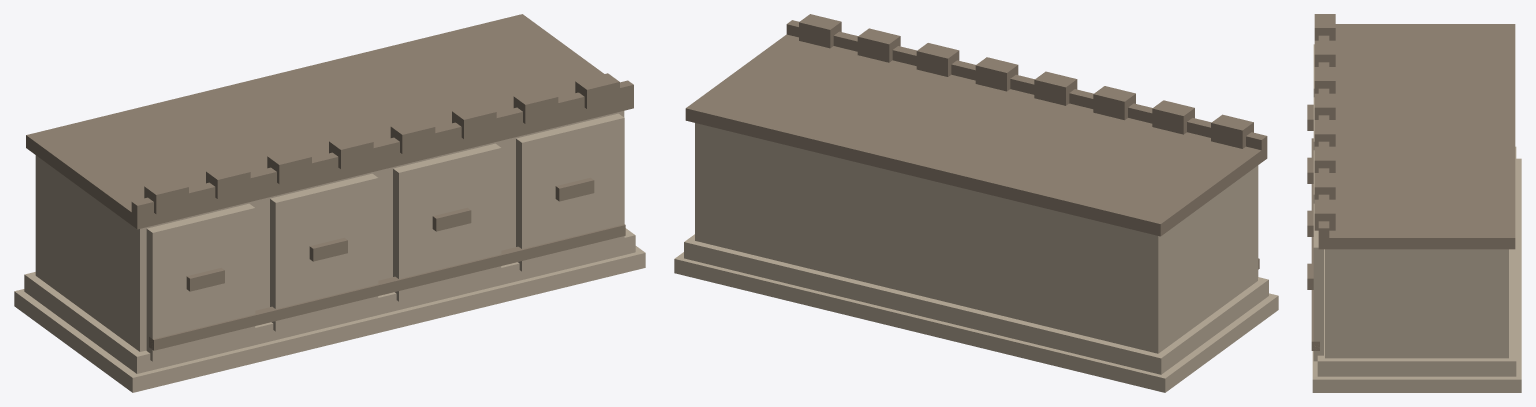
File: fortress_tier_wide.glb
3 renders of one model, left to right at view 1: azimuth 30°, elevation 25°; view 2: azimuth 150°, elevation 25°; view 3: azimuth 270°, elevation 25°, orthographic. The views are drawn at different scales.
Parts seen in each view (by area): view 1: accent_FortressTier, FortressTier, chunk_4, chunk_5, chunk_6, chunk_7, accent_chunk_1, accent_chunk_3, accent_chunk_2, accent_chunk_6, accent_chunk_7, accent_chunk_4 (+1 smaller); view 2: FortressTier, accent_FortressTier, accent_chunk_1, accent_chunk_2; view 3: accent_FortressTier, FortressTier, accent_chunk_1, chunk_7, accent_chunk_2, accent_chunk_3.
Boxes of the visible parts, x1=… form: accent_FortressTier: x1=26, y1=14, x2=633, y2=229; FortressTier: x1=14, y1=111, x2=645, y2=392; chunk_4: x1=146, y1=203, x2=255, y2=361; chunk_5: x1=270, y1=173, x2=378, y2=331; chunk_6: x1=393, y1=143, x2=501, y2=301; chunk_7: x1=516, y1=113, x2=624, y2=271; accent_chunk_1: x1=144, y1=73, x2=619, y2=214; accent_chunk_3: x1=149, y1=224, x2=625, y2=350; accent_chunk_2: x1=131, y1=80, x2=633, y2=216; accent_chunk_6: x1=432, y1=207, x2=471, y2=231; accent_chunk_7: x1=555, y1=177, x2=594, y2=201; accent_chunk_4: x1=186, y1=267, x2=224, y2=291; FortressTier: x1=674, y1=123, x2=1278, y2=392; accent_FortressTier: x1=685, y1=34, x2=1267, y2=236; accent_chunk_1: x1=799, y1=14, x2=1253, y2=148; accent_chunk_2: x1=786, y1=20, x2=1267, y2=150; accent_FortressTier: x1=1318, y1=24, x2=1515, y2=249; FortressTier: x1=1312, y1=146, x2=1521, y2=392; accent_chunk_1: x1=1314, y1=14, x2=1335, y2=230; chunk_7: x1=1313, y1=203, x2=1323, y2=361; accent_chunk_2: x1=1318, y1=35, x2=1329, y2=237; accent_chunk_3: x1=1311, y1=138, x2=1319, y2=350.
Size of the model in its own units: 2.5 by 0.89 by 1.02.
